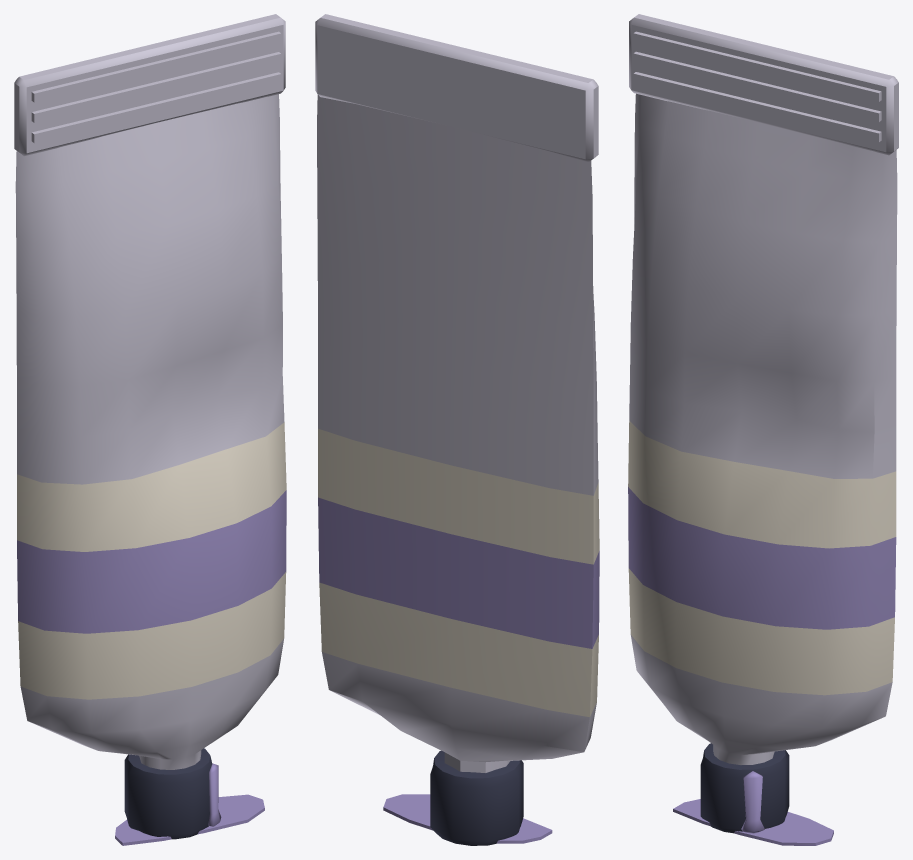
The model's file is prop_paint_tube.glb.
3 renders of one model, left to right at view 1: azimuth 30°, elevation 25°; view 2: azimuth 150°, elevation 25°; view 3: azimuth 330°, elevation 25°, orthographic. The views are drawn at different scales.
Parts seen in each view (by area): view 1: PaintTubeMesh; view 2: PaintTubeMesh; view 3: PaintTubeMesh.
Part boxes in pixels (x1=…): PaintTubeMesh: x1=14, y1=14, x2=286, y2=845; PaintTubeMesh: x1=315, y1=14, x2=599, y2=845; PaintTubeMesh: x1=628, y1=14, x2=898, y2=845.
Bounding box in the file's own units: 1.1 × 3 × 0.3419.
